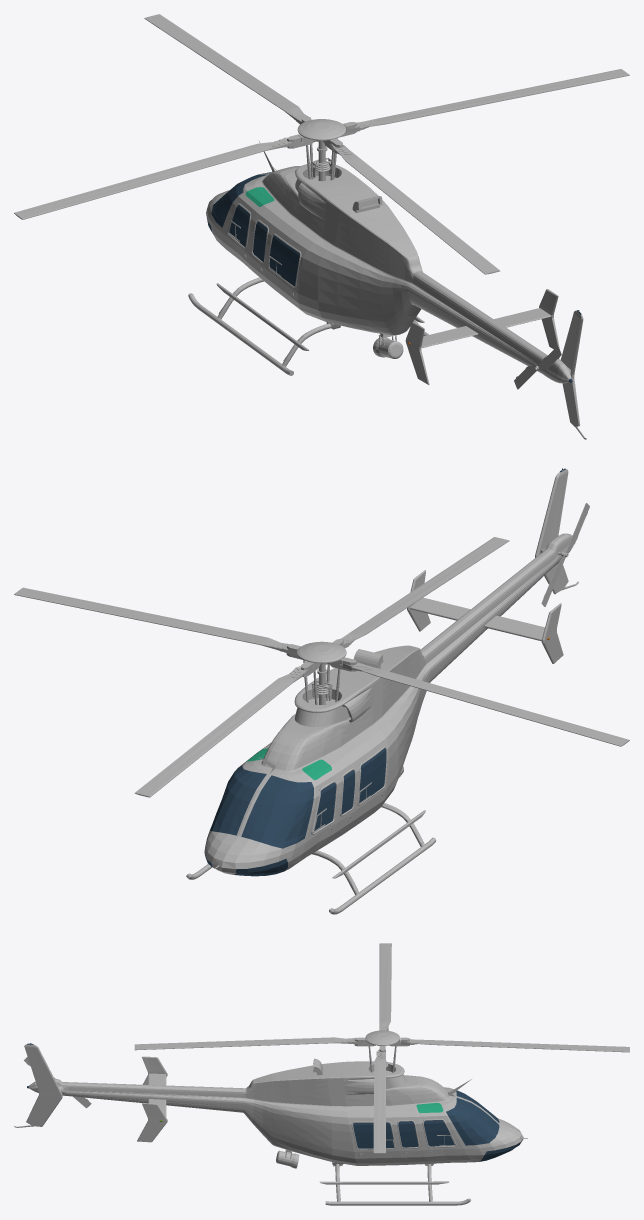
File: hel1.dae
3 renders of one model, top to bottom at view 1: azimuth 30°, elevation 25°; view 2: azimuth 150°, elevation 25°; view 3: azimuth 270°, elevation 25°, orthographic. The views are drawn at different scales.
Visible parts, largest first — view 1: fuselage, main_rotor, door1, door3, door2; view 2: fuselage, main_rotor, door1, door3, door2, rear_rotor; view 3: fuselage, main_rotor, door4, door5.
Boxes of the visible parts, x1,y1,x2,y2 form: fuselage: (188, 141, 586, 439); main_rotor: (14, 14, 629, 274); door1: (265, 226, 306, 302); door3: (222, 197, 256, 269); door2: (250, 213, 273, 284); fuselage: (186, 468, 578, 914); main_rotor: (14, 537, 629, 797); door1: (349, 738, 388, 829); door3: (300, 773, 339, 859); door2: (331, 761, 357, 840); rear_rotor: (541, 503, 589, 606); fuselage: (14, 1043, 527, 1205); main_rotor: (134, 943, 629, 1153); door4: (348, 1117, 401, 1162); door5: (418, 1115, 468, 1161).
Bounding box in the file's own units: 1.05 × 1.3 × 0.3405.
